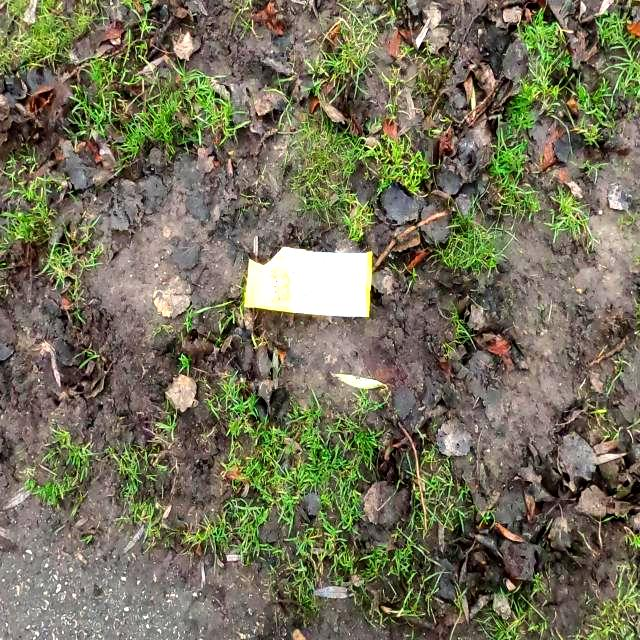Plastic: (244, 246, 372, 316)
